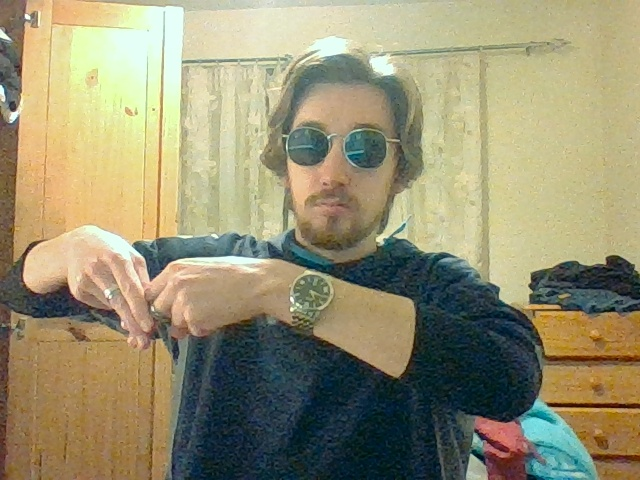father: (101, 230, 194, 348)
